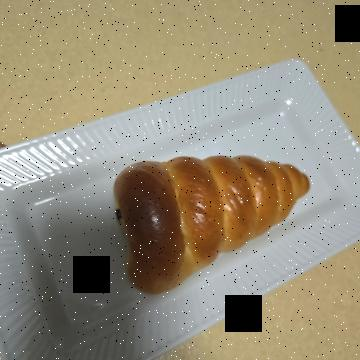cream horn: (138, 39, 327, 271)
